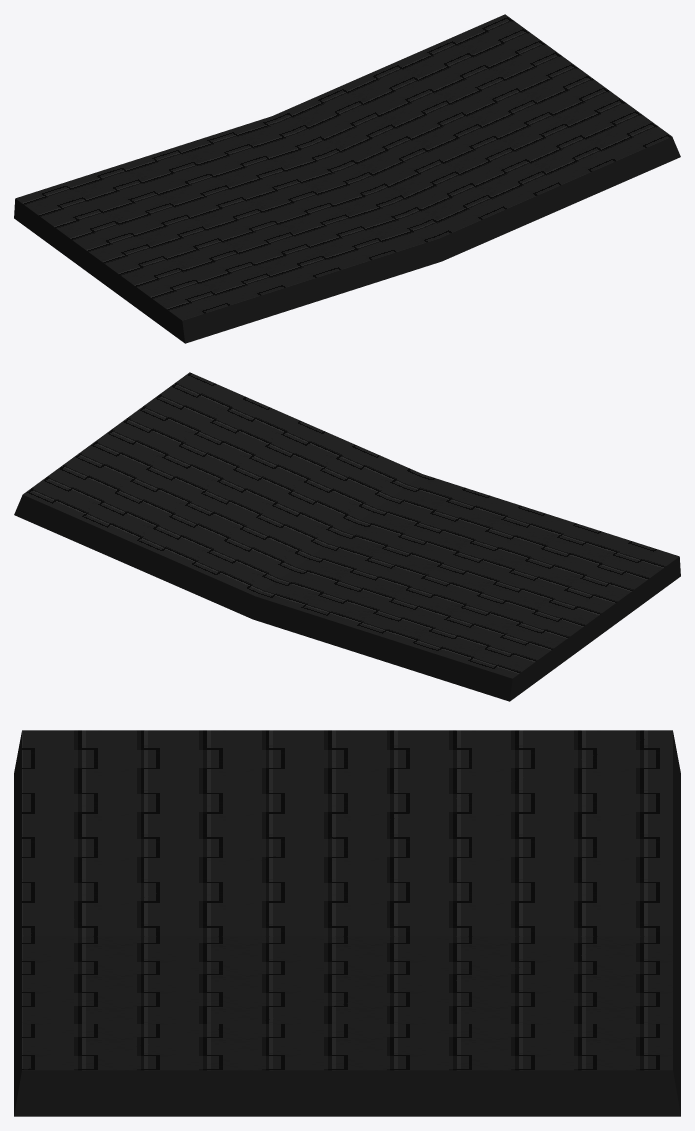
File: Launcherpeec.fbx
The picture shows the model from 3 angles, top to bottom: view 1: azimuth 30°, elevation 25°; view 2: azimuth 150°, elevation 25°; view 3: azimuth 270°, elevation 25°; orthographic projection. The views are drawn at different scales.
Visible parts, largest first — view 1: Cube.001; view 2: Cube.001; view 3: Cube.001.
Part boxes in pixels (box(x1,y1,x2,y2)): Cube.001: box(14, 14, 680, 343); Cube.001: box(14, 372, 680, 701); Cube.001: box(14, 730, 680, 1116).
Size of the model in its own units: 683 by 408 by 113.
